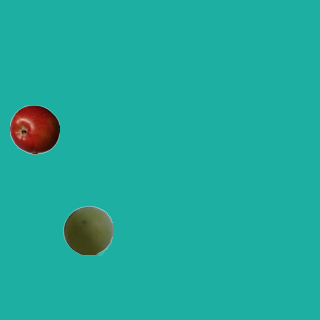Apple Braeburn: (9, 104, 59, 154)
Grape White 4: (62, 205, 112, 255)
